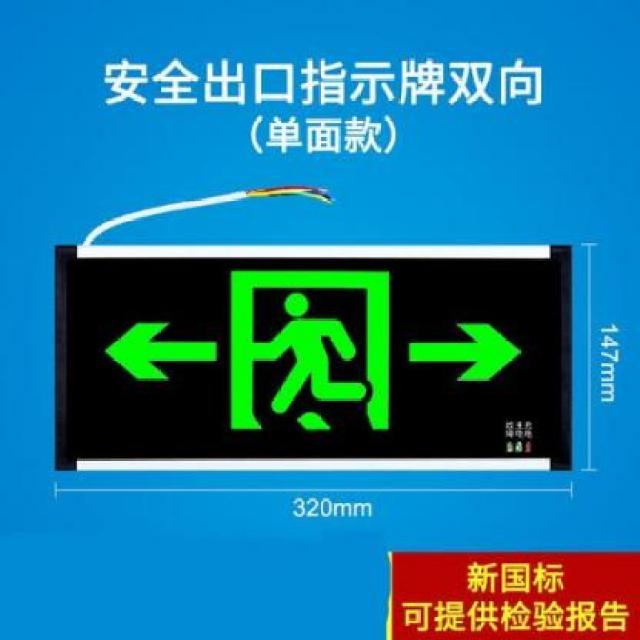exit_sign: (41, 232, 582, 490)
